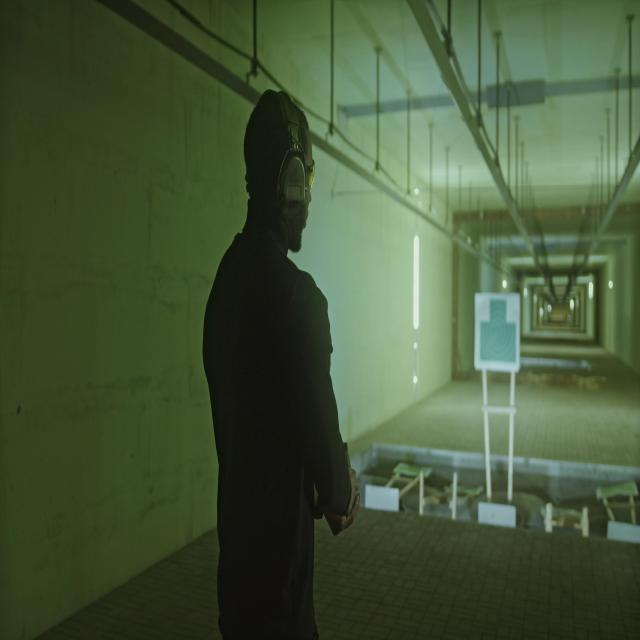Gun_Holder: (337, 437, 366, 540)
Person: (198, 88, 362, 640)
